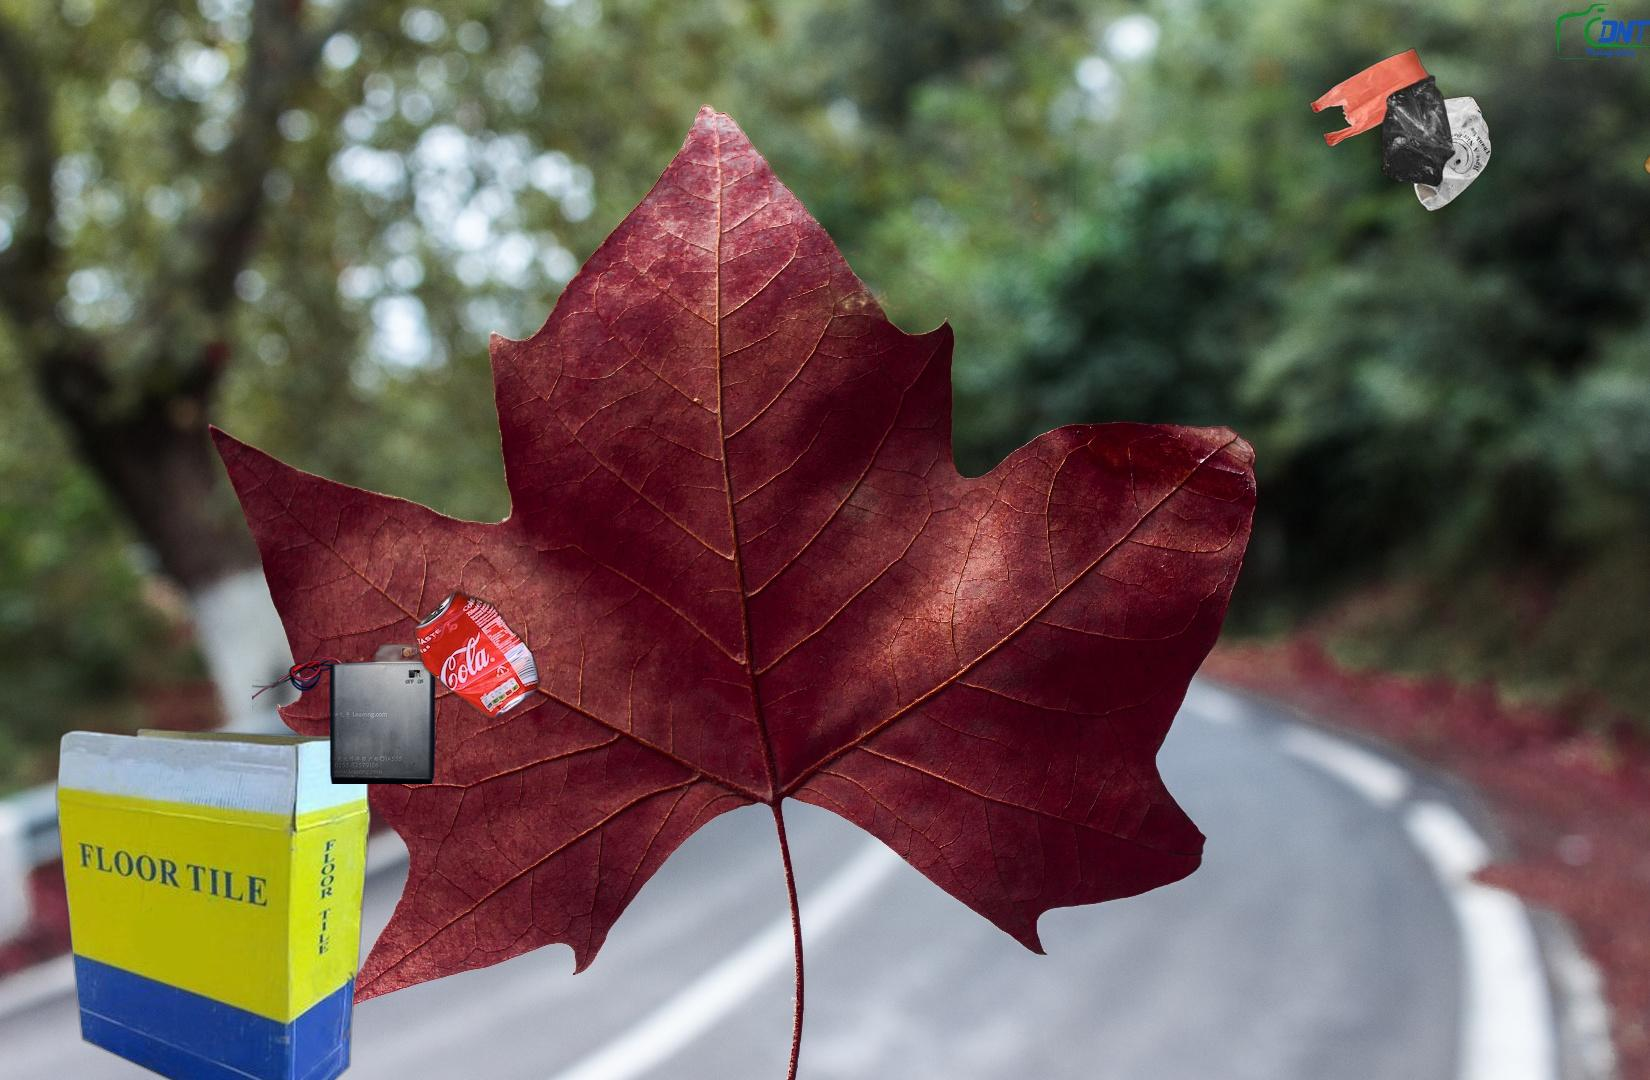battery: (252, 643, 442, 784)
metal-cans: (410, 585, 543, 725)
plastic-bag: (1307, 45, 1494, 214), (1642, 84, 1650, 239)
trashbox-cardboard: (564, 129, 1076, 513), (52, 724, 376, 1080)
